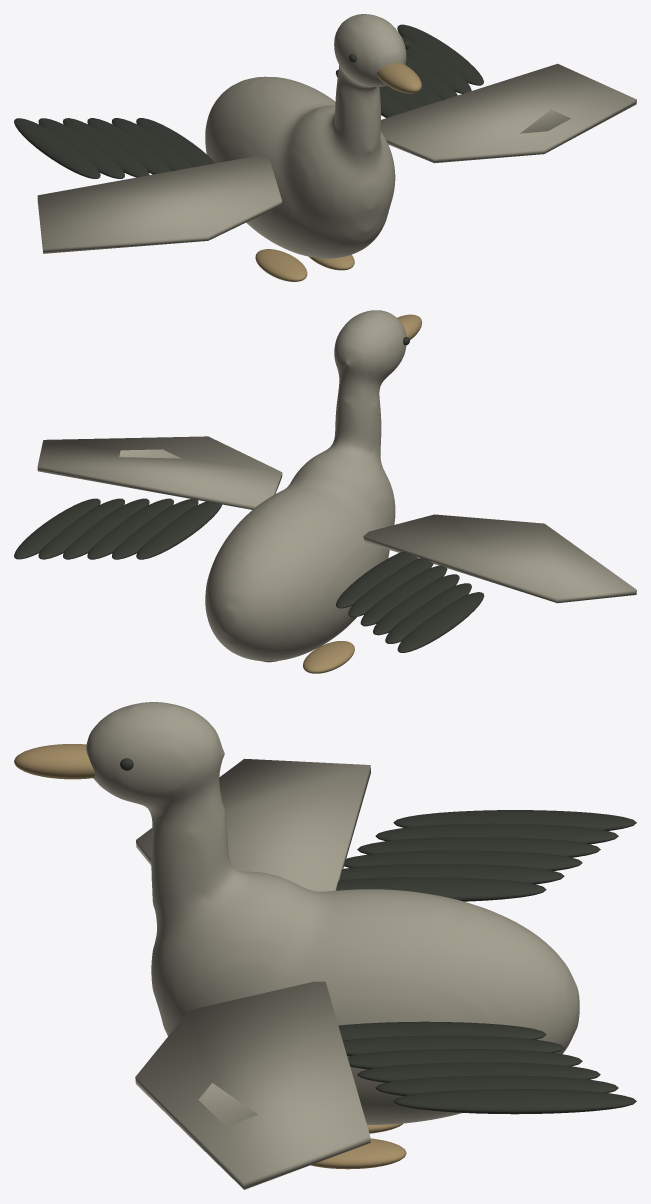
The model's file is goose.glb.
3 views of the same model, one above another, from view 1: azimuth 30°, elevation 25°; view 2: azimuth 150°, elevation 25°; view 3: azimuth 270°, elevation 25° (orthographic). The views are drawn at different scales.
Parts seen in each view (by area): view 1: Unified goose, Flight wing -1, Flight wing 1, Primary feather.005, Primary feather.011, Primary feather.004, Primary feather.003, Primary feather.002, Primary feather.001, Primary feather, Foot, Primary feather.010 (+5 smaller); view 2: Unified goose, Flight wing -1, Flight wing 1, Primary feather.005, Primary feather.006, Primary feather.011, Primary feather.010, Primary feather.008, Primary feather.009, Primary feather.007, Primary feather.003, Primary feather.002 (+4 smaller); view 3: Unified goose, Flight wing 1, Flight wing -1, Primary feather.011, Primary feather, Primary feather.005, Primary feather.004, Primary feather.003, Primary feather.010, Primary feather.009, Primary feather.002, Primary feather.008 (+5 smaller).
Boxes of the visible parts, bbox=[...] form: Unified goose: bbox=[205, 14, 406, 258]; Flight wing -1: bbox=[37, 155, 281, 253]; Flight wing 1: bbox=[380, 63, 636, 163]; Primary feather.005: bbox=[14, 118, 100, 178]; Primary feather.011: bbox=[397, 24, 483, 85]; Primary feather.004: bbox=[38, 118, 124, 178]; Primary feather.003: bbox=[63, 118, 149, 177]; Primary feather.002: bbox=[87, 118, 172, 174]; Primary feather.001: bbox=[112, 118, 193, 170]; Primary feather: bbox=[136, 118, 215, 166]; Foot: bbox=[255, 249, 307, 281]; Primary feather.010: bbox=[401, 36, 471, 93]; Unified goose: bbox=[205, 310, 406, 661]; Flight wing -1: bbox=[363, 514, 636, 603]; Flight wing 1: bbox=[37, 436, 282, 509]; Primary feather.005: bbox=[397, 592, 484, 652]; Primary feather.006: bbox=[136, 501, 221, 559]; Primary feather.011: bbox=[14, 498, 100, 559]; Primary feather.010: bbox=[38, 498, 124, 559]; Primary feather.008: bbox=[87, 498, 173, 559]; Primary feather.009: bbox=[63, 498, 149, 559]; Primary feather.007: bbox=[112, 499, 198, 559]; Primary feather.003: bbox=[373, 574, 459, 635]; Primary feather.002: bbox=[360, 565, 447, 626]; Unified goose: bbox=[86, 702, 579, 1124]; Flight wing 1: bbox=[135, 981, 370, 1189]; Flight wing -1: bbox=[136, 758, 370, 891]; Primary feather.011: bbox=[393, 1089, 636, 1114]; Primary feather: bbox=[336, 877, 546, 901]; Primary feather.005: bbox=[393, 810, 636, 830]; Primary feather.004: bbox=[375, 823, 618, 844]; Primary feather.003: bbox=[357, 837, 600, 857]; Primary feather.010: bbox=[375, 1075, 618, 1096]; Primary feather.009: bbox=[357, 1062, 600, 1082]; Primary feather.002: bbox=[344, 850, 582, 870]; Primary feather.008: bbox=[347, 1049, 582, 1069].
Bounding box in the file's own units: 2.26 × 1.08 × 1.38.
